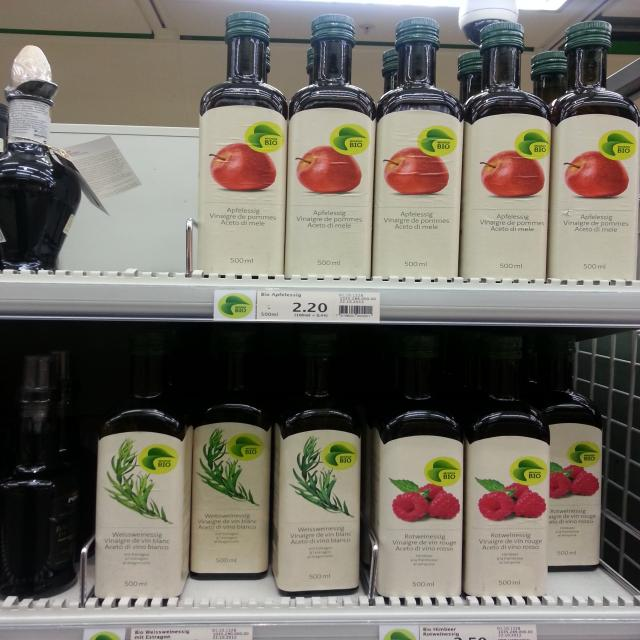Oil-Vinegar: (371, 14, 463, 276), (460, 20, 552, 276), (285, 12, 373, 276), (550, 22, 640, 280), (95, 351, 189, 598), (371, 348, 464, 597), (272, 348, 362, 597), (202, 12, 286, 276), (467, 345, 548, 597), (0, 352, 81, 600), (0, 46, 81, 270), (192, 347, 269, 580), (548, 338, 601, 573)
